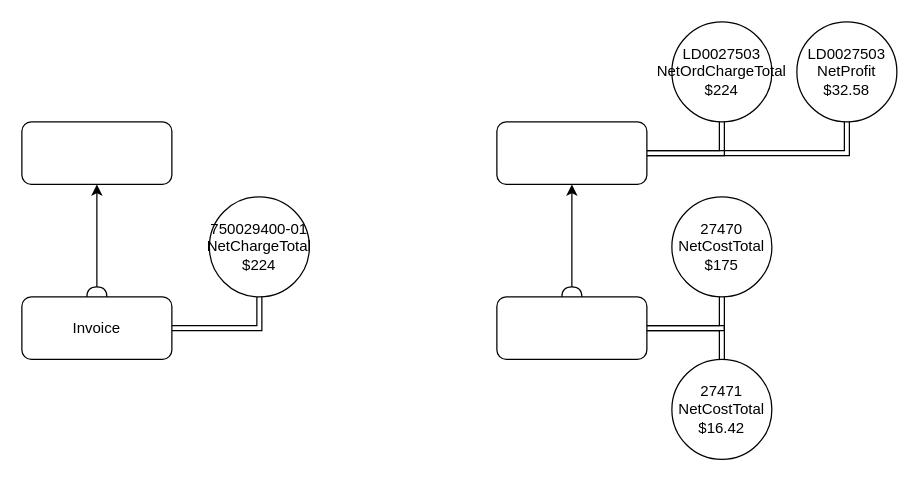
Some shapes in this 919 by 481 pixel diagram are drawn without their labels. Each missing label, with the centre of its shape:
FreightBill: [571,327]
Load: [571,152]
OrdHeader: [96,152]
